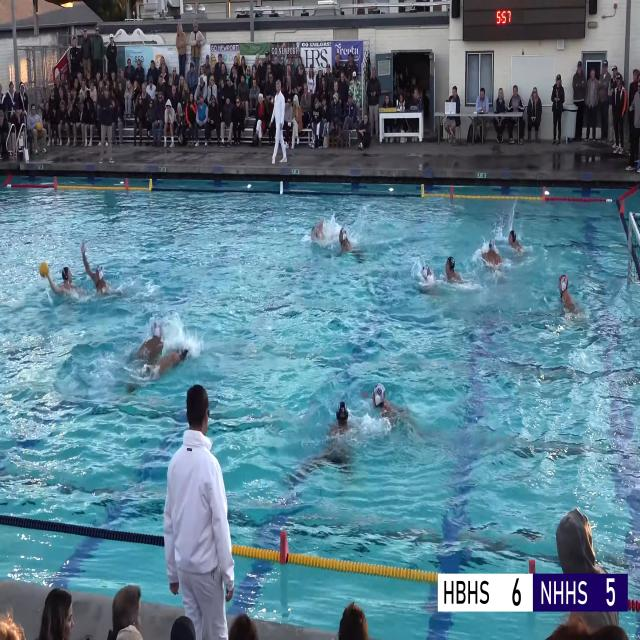ball: (40, 262, 49, 277), (36, 122, 42, 131)
